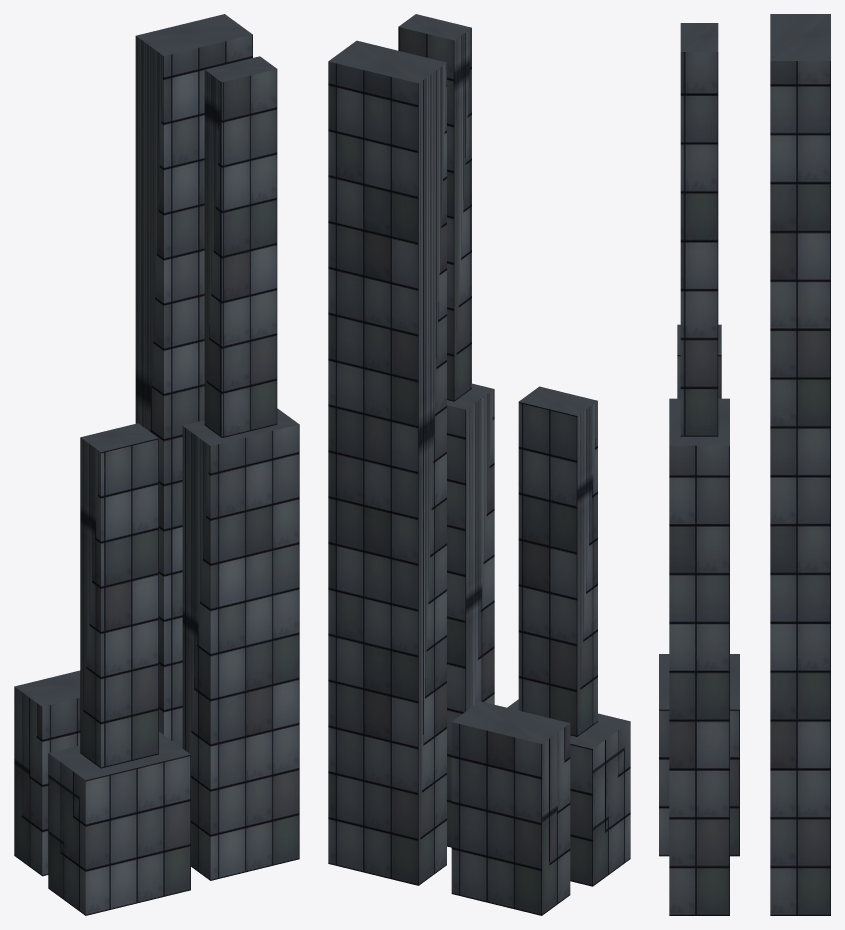
File: block_21.obj
3 views of the same model, side by side, from view 1: azimuth 30°, elevation 25°; view 2: azimuth 150°, elevation 25°; view 3: azimuth 270°, elevation 25° (orthographic). The views are drawn at different scales.
Visible parts, largest first — view 1: b3, b1, b2, b0; view 2: b2, b1, b3, b0; view 3: b2, b3, b1.
Part boxes in pixels (x1,y1,x2,y2): b3: (182,56,299,880); b1: (48,423,190,915); b2: (135,14,252,748); b0: (14,670,80,876); b2: (328,40,446,885); b1: (507,386,630,886); b3: (398,14,494,847); b0: (451,701,570,915); b2: (770,14,830,915); b3: (669,23,729,915); b1: (659,324,739,856).
Bounding box in the file's own units: 4.05 × 14 × 2.55.
